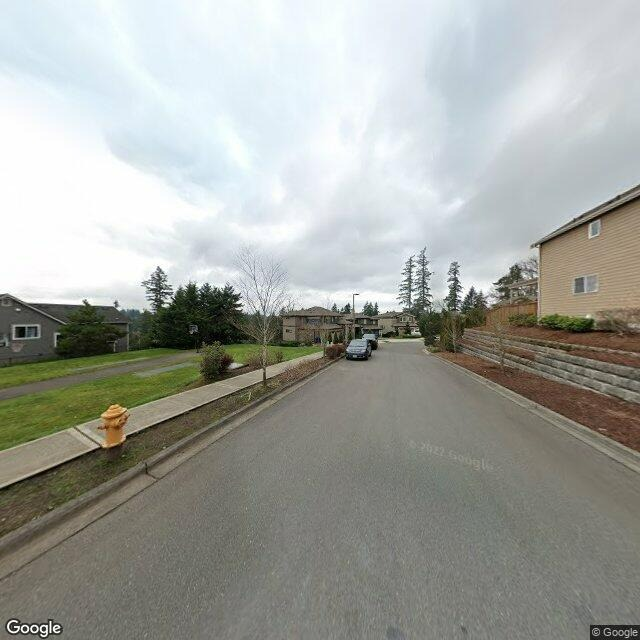hydrant: (91, 396, 136, 447)
